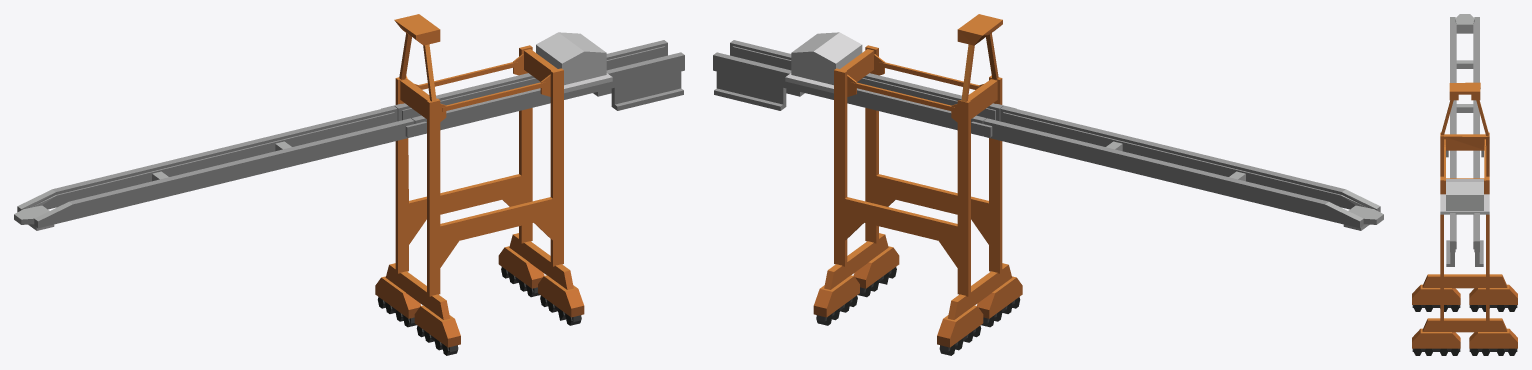
The model's file is 吊机模型删减结构.glb.
3 renders of one model, left to right at view 1: azimuth 30°, elevation 25°; view 2: azimuth 150°, elevation 25°; view 3: azimuth 270°, elevation 25°, orthographic. The views are drawn at different scales.
Parts seen in each view (by area): view 1: 吊机模型删减结构; view 2: 吊机模型删减结构; view 3: 吊机模型删减结构.
Boxes of the visible parts, x1,y1,x2,y2 form: 吊机模型删减结构: [14, 14, 684, 355]; 吊机模型删减结构: [713, 14, 1383, 355]; 吊机模型删减结构: [1412, 14, 1517, 355].
Size of the model in its own units: 30.43 by 13.59 by 5.83.
Materials: 1 (1 with a texture image).
